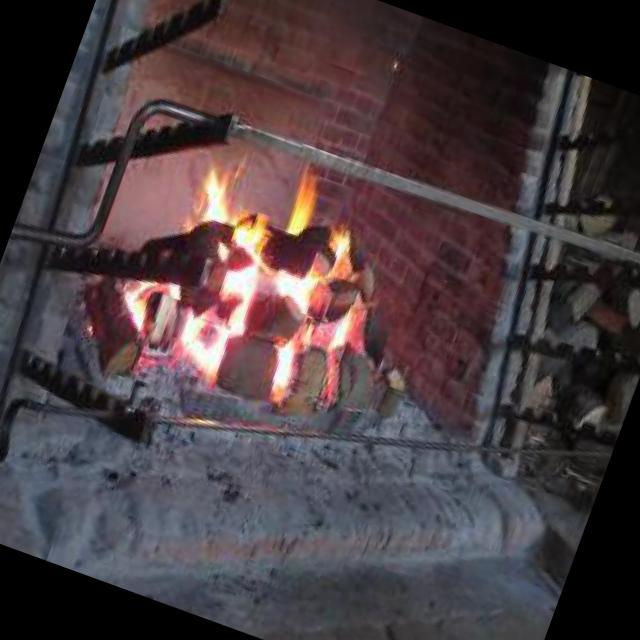fire: (131, 126, 414, 427)
